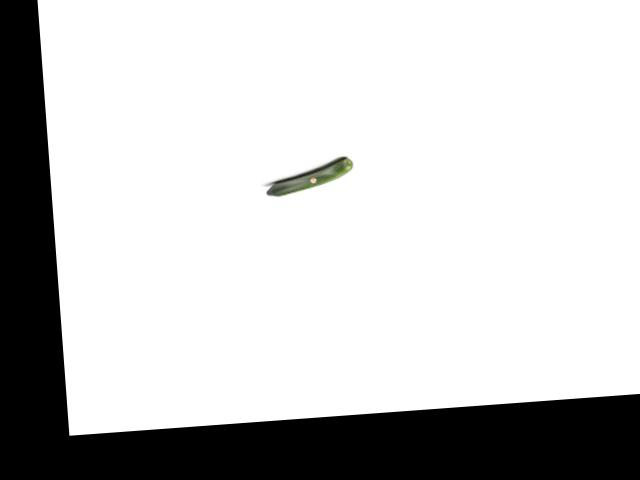cucumber: (264, 157, 355, 196)
